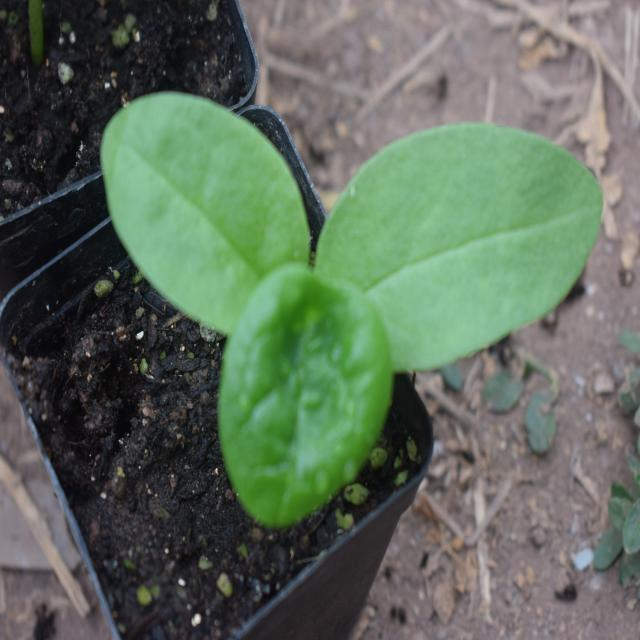Ceylon spinach: (110, 90, 600, 511)
